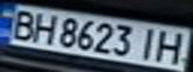2: (90, 20, 115, 56)
3: (112, 21, 139, 59)
6: (75, 18, 96, 52)
8: (54, 16, 81, 48)
B: (3, 7, 39, 40)
H: (151, 28, 190, 64), (27, 11, 60, 45)
I: (136, 25, 163, 61)
